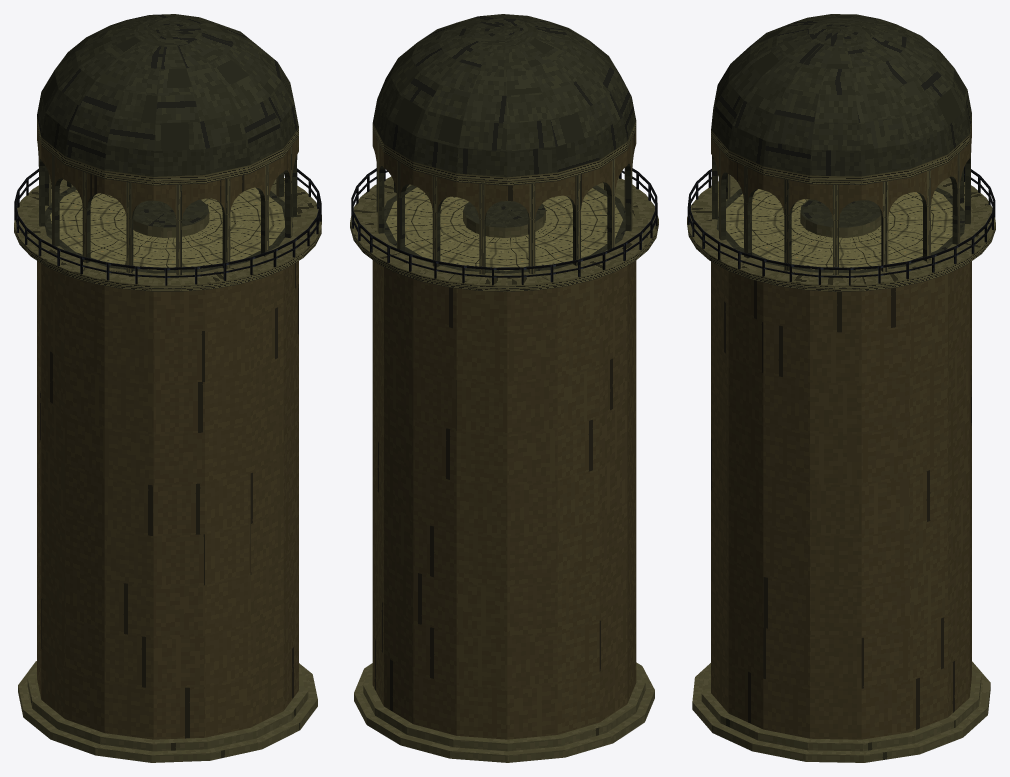
Rendered from marble_tower.glb.
3 views of the same model, side by side, from view 1: azimuth 30°, elevation 25°; view 2: azimuth 150°, elevation 25°; view 3: azimuth 270°, elevation 25° (orthographic).
Parts seen in each view (by area): view 1: MarbleTowerRock; view 2: MarbleTowerRock; view 3: MarbleTowerRock.
Part boxes in pixels (bbox=[...]): MarbleTowerRock: bbox=[14, 14, 321, 762]; MarbleTowerRock: bbox=[350, 14, 658, 762]; MarbleTowerRock: bbox=[687, 14, 995, 762].
Size of what is drawn, in the model's own units: 16.38 by 39.25 by 16.38.
1 material, 1 textured.
